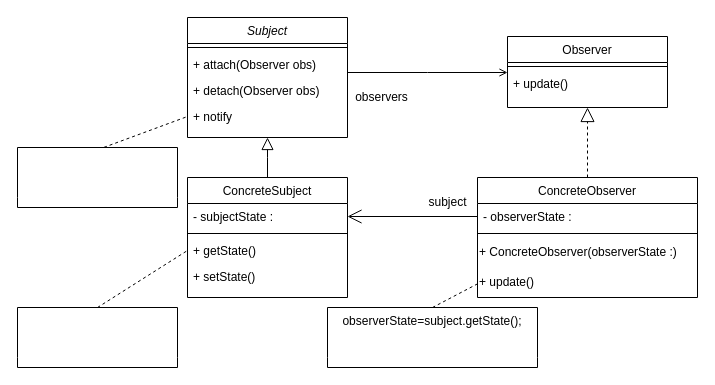
Image size: 715x385. Some labels were removed from this diagram. Here are the shapes that lost their labels. From the top down, the centre of each, then its label:
the point at 97,177: for(obs:observers) { obs.update() }
the point at 97,337: return subjectState;
